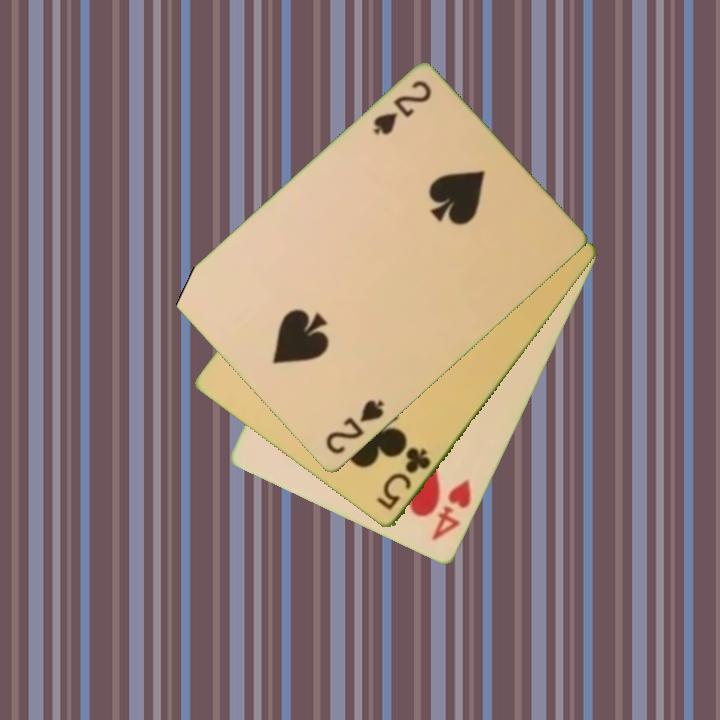2s: (369, 77, 435, 139), (322, 396, 387, 458)
4h: (428, 476, 475, 544)
5c: (373, 444, 434, 514)
